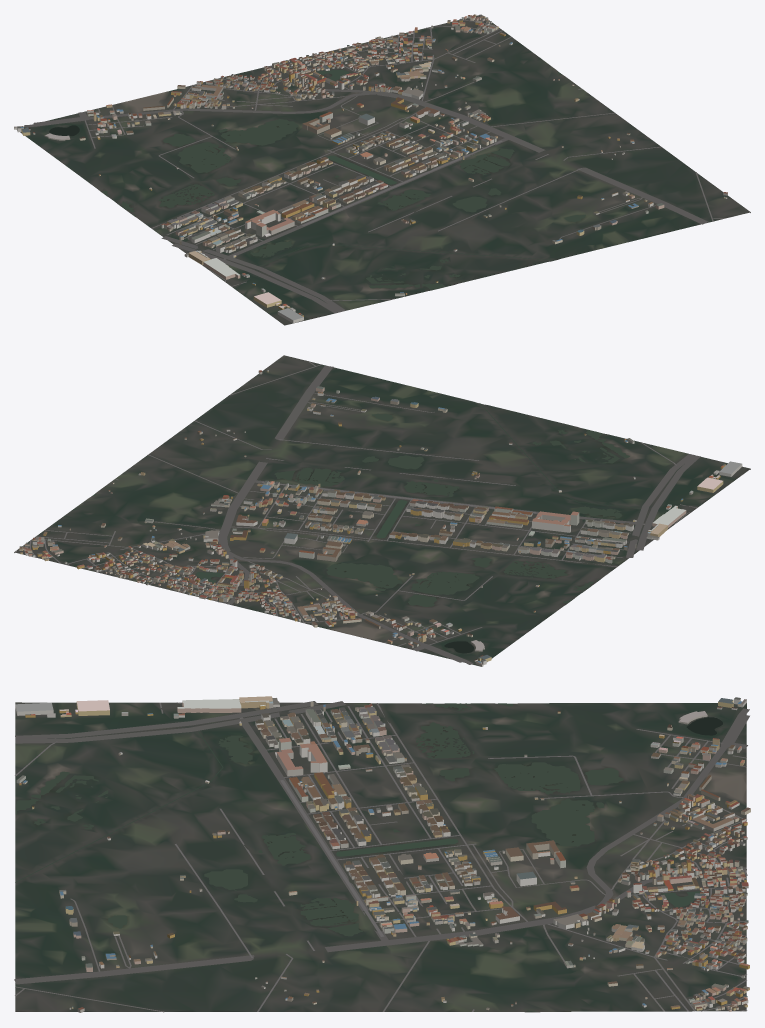
3 renders of one model, top to bottom at view 1: azimuth 30°, elevation 25°; view 2: azimuth 150°, elevation 25°; view 3: azimuth 270°, elevation 25°, orthographic. The views are drawn at different scales.
Visible parts, largest first — view 1: ground, buildings, roads, water; view 2: ground, buildings, roads, water; view 3: ground, buildings, roads, water.
Boxes of the visible parts, x1,y1,x2,y2 form: ground: (20, 14, 750, 325); buildings: (14, 14, 727, 323); roads: (24, 14, 726, 313); water: (49, 70, 586, 289); ground: (14, 355, 750, 666); buildings: (19, 369, 742, 666); roads: (15, 361, 700, 664); water: (92, 403, 640, 653); ground: (15, 702, 746, 1012); buildings: (15, 696, 750, 1012); roads: (14, 701, 749, 1012); water: (15, 703, 722, 1011).
Bounding box in the file's own units: 1415 × 32.65 × 1412.
